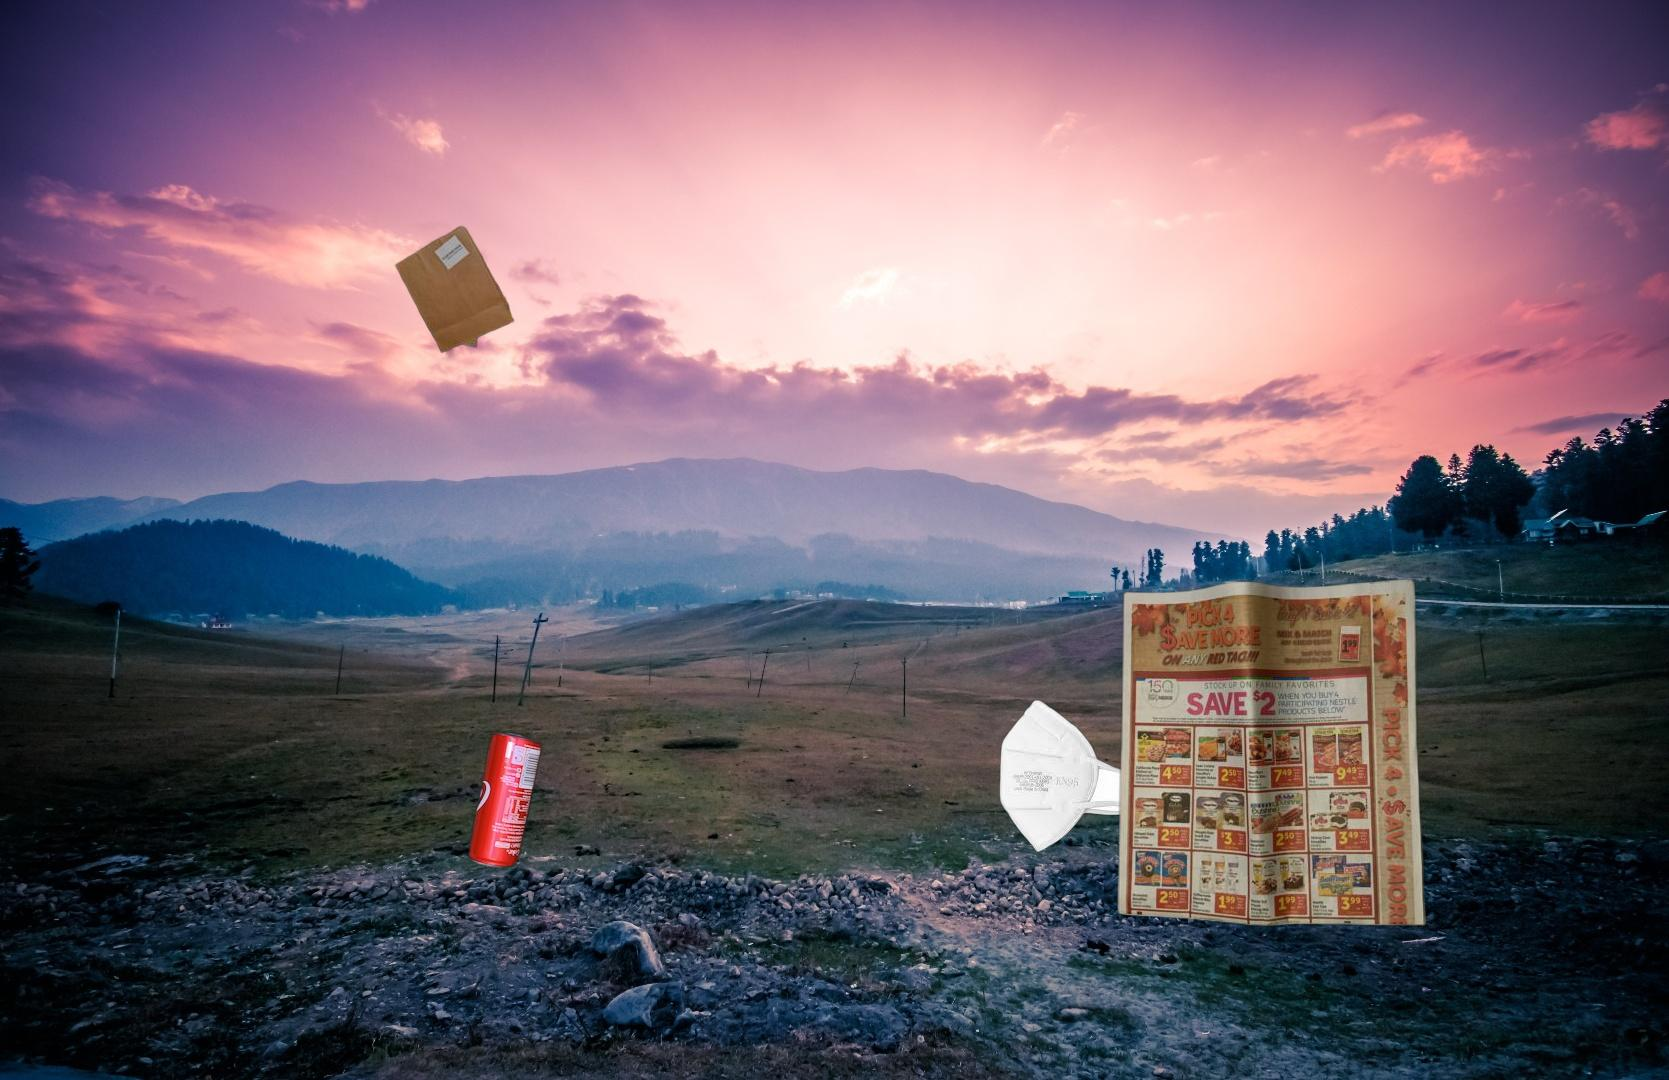glass: (379, 1079, 631, 1080)
metal-cans: (465, 726, 547, 874)
paper: (1112, 575, 1431, 930)
paper-bag: (394, 224, 573, 430)
trash: (997, 697, 1157, 855)
